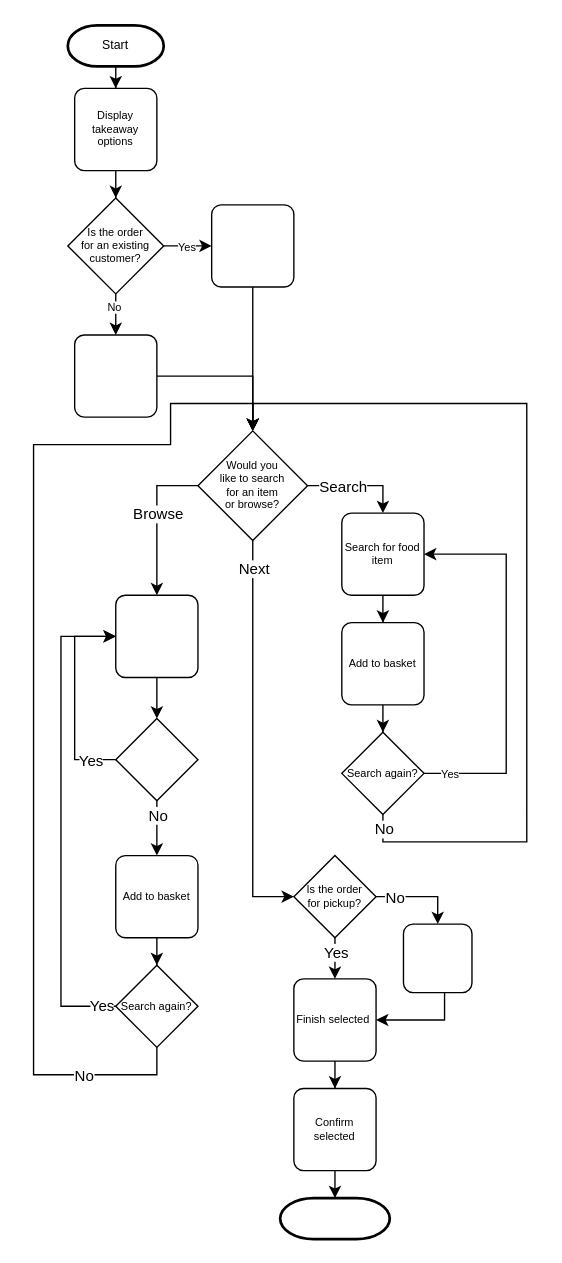
Some shapes in this 562 by 1263 pixel diagram are drawn without their labels. Each missing label, with the centre of its shape:
Add delivery cost to total: the point at 437,958
Create customer: the point at 115,375
Display another page?: the point at 156,759
Display page of food: the point at 156,635
End: the point at 334,1218
Input customer name or ID: the point at 252,245
